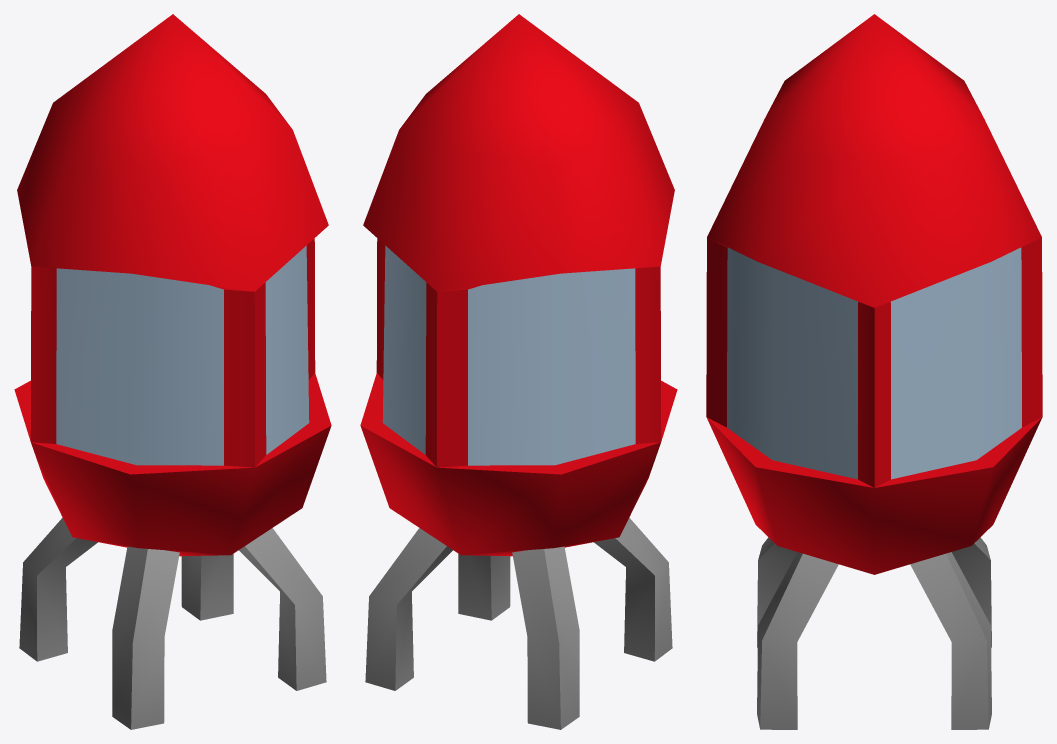
The model's file is SpacePod.fbx.
3 renders of one model, left to right at view 1: azimuth 30°, elevation 25°; view 2: azimuth 150°, elevation 25°; view 3: azimuth 270°, elevation 25°, orthographic. The views are drawn at different scales.
Parts seen in each view (by area): view 1: SpacePod; view 2: SpacePod; view 3: SpacePod.
Part boxes in pixels (x1,y1,x2,y2): SpacePod: [14, 14, 331, 729]; SpacePod: [360, 14, 677, 729]; SpacePod: [706, 14, 1042, 729].
Bounding box in the file's own units: 208 × 455 × 208.
